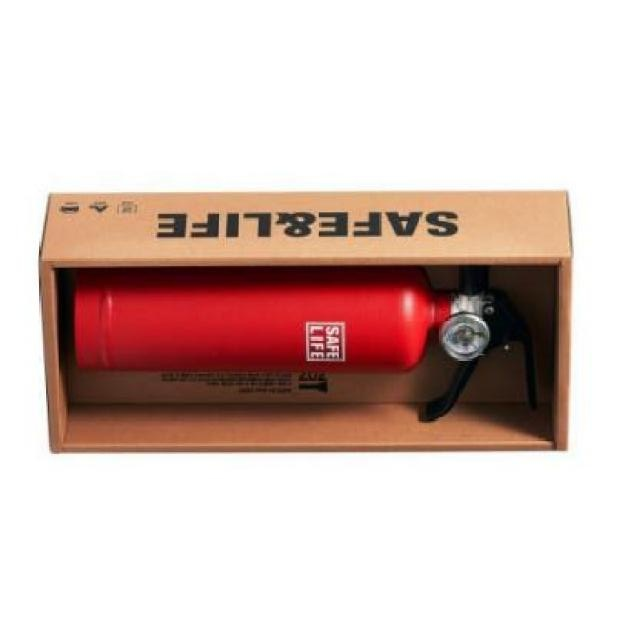fire extinguisher: (74, 262, 546, 424)
